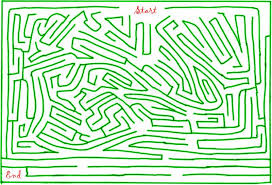maze: (1, 1, 272, 185)
